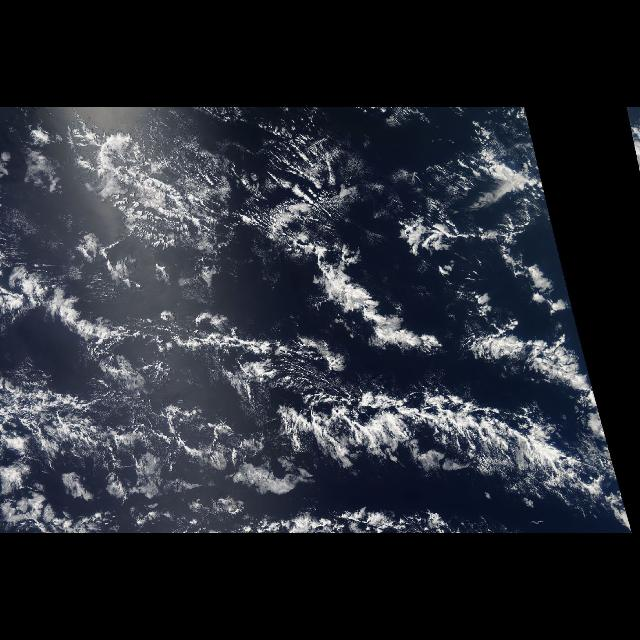Fish: (8, 208, 624, 522)
Flower: (0, 453, 304, 532)
Gravel: (152, 374, 594, 498)
